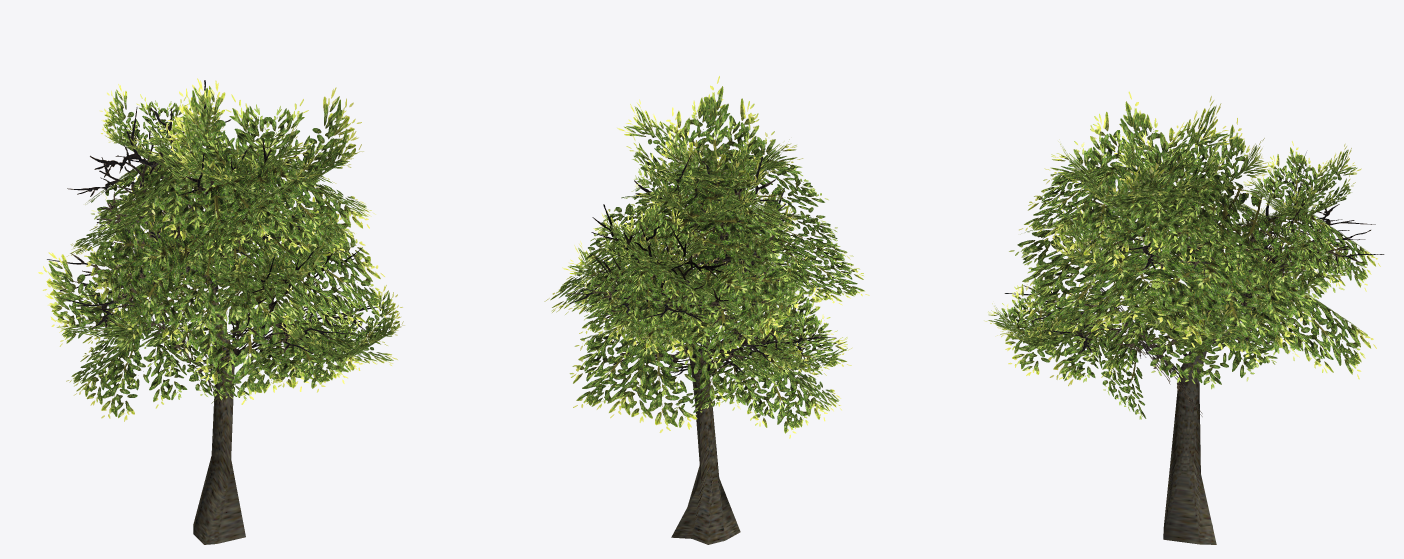
Rendered from 0ad-ancient.e6baf49b607c.holm-oak.glb.
The picture shows the model from 3 angles, left to right: view 1: azimuth 30°, elevation 25°; view 2: azimuth 150°, elevation 25°; view 3: azimuth 270°, elevation 25°; orthographic projection. The views are drawn at different scales.
Visible parts, largest first — view 1: flora/trees/oak_holly.xml; view 2: flora/trees/oak_holly.xml; view 3: flora/trees/oak_holly.xml.
Part boxes in pixels (x1=…): flora/trees/oak_holly.xml: x1=38, y1=78, x2=404, y2=544; flora/trees/oak_holly.xml: x1=544, y1=76, x2=869, y2=544; flora/trees/oak_holly.xml: x1=984, y1=91, x2=1384, y2=544.
Bounding box in the file's own units: 16.98 × 20.58 × 17.18.
Materials: 1 (1 with a texture image).
